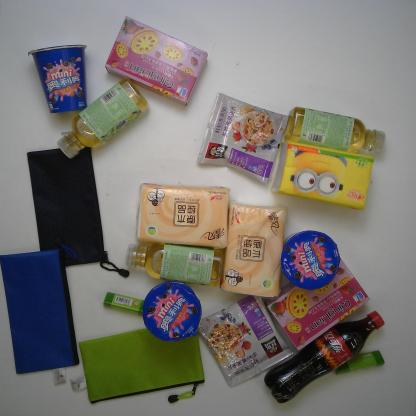Dessert: (264, 255, 374, 355), (103, 13, 215, 108), (25, 40, 96, 116), (140, 278, 209, 348), (278, 227, 345, 293)
Drink: (258, 305, 388, 405), (55, 74, 154, 162), (282, 102, 393, 158), (121, 235, 230, 291)
Instant Drink: (192, 84, 290, 189), (196, 294, 298, 389)
Stationery: (23, 140, 132, 283), (0, 244, 85, 378), (77, 324, 212, 407), (335, 343, 386, 380), (102, 288, 148, 316)
Tissue: (277, 136, 379, 213), (134, 178, 238, 252), (219, 199, 289, 301)
